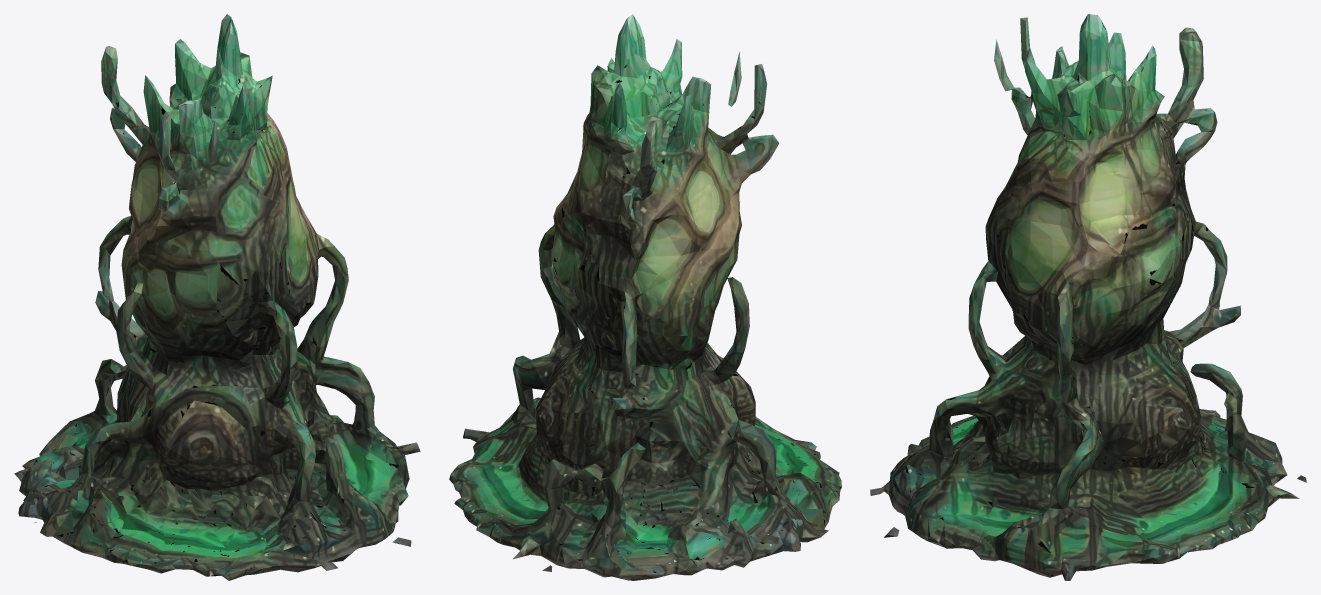
The model's file is tower_7.glb.
3 views of the same model, side by side, from view 1: azimuth 30°, elevation 25°; view 2: azimuth 150°, elevation 25°; view 3: azimuth 270°, elevation 25° (orthographic).
Visible parts, largest first — view 1: test; view 2: test; view 3: test.
Part boxes in pixels (x1=…): test: x1=14, y1=14, x2=420, y2=580; test: x1=449, y1=14, x2=841, y2=580; test: x1=870, y1=14, x2=1306, y2=580.
Size of the model in its own units: 2.66 by 3.36 by 2.69.
Materials: 1 (1 with a texture image).
